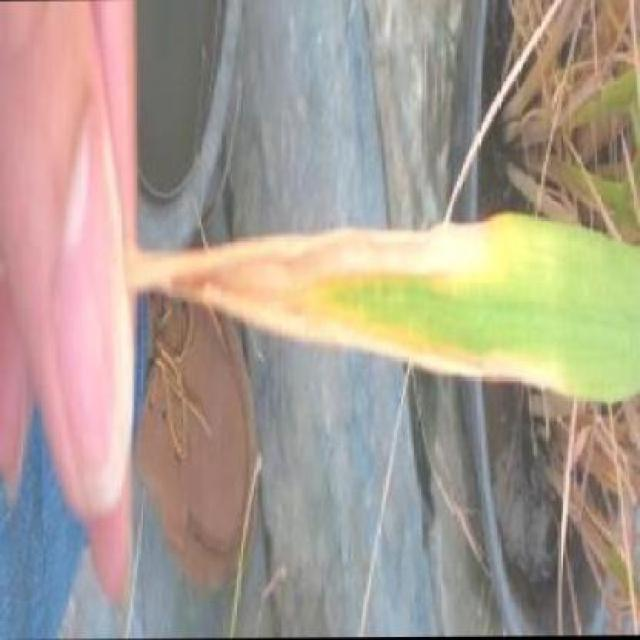Brown_Spot: (267, 218, 638, 394)
